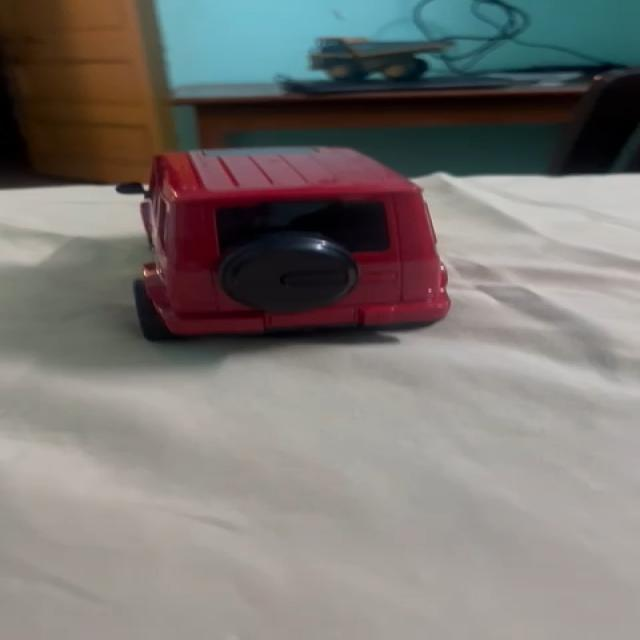dump_truck: (304, 28, 457, 80)
light_vehicle: (110, 143, 461, 340)
